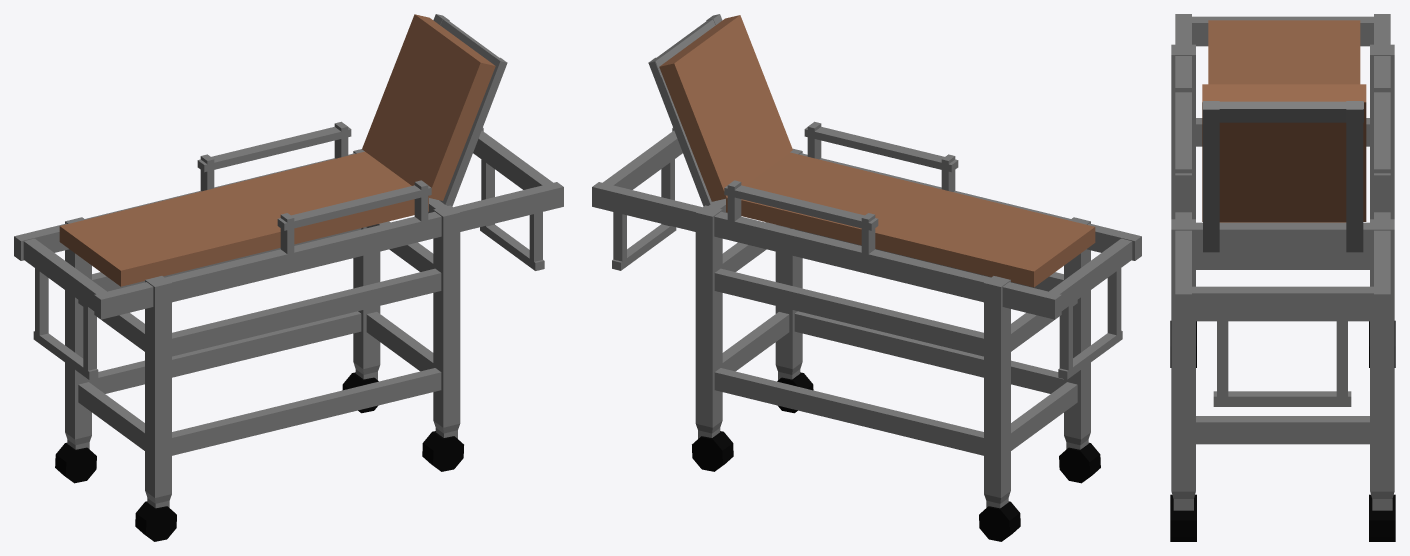
File: Gurney (1).fbx
3 renders of one model, left to right at view 1: azimuth 30°, elevation 25°; view 2: azimuth 150°, elevation 25°; view 3: azimuth 270°, elevation 25°, orthographic. The views are drawn at different scales.
Visible parts, largest first — view 1: Mesh_V2; view 2: Mesh_V2; view 3: Mesh_V2.
Part boxes in pixels (left/top/right/bottom): Mesh_V2: left=14, top=14, right=563, bottom=541; Mesh_V2: left=592, top=14, right=1141, bottom=541; Mesh_V2: left=1170, top=14, right=1395, bottom=541.
Size of the model in its own units: 1.74 by 1.4 by 0.5921.
